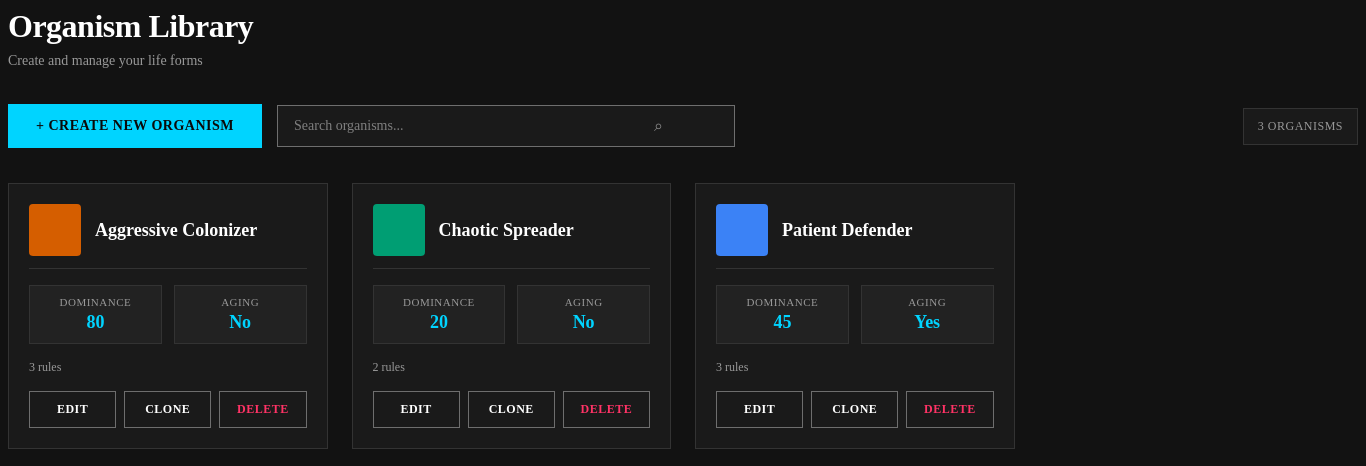
Test: OrganismLibrary › has no axe violations while filtered
Check: the number of list items is 3, box [8,183,328,449]; [352,183,671,449]; [695,183,1014,449]
Type "pat" into the field labelled "Search organisms" at {"x": 506, "y": 126}, box [277,105,735,147]
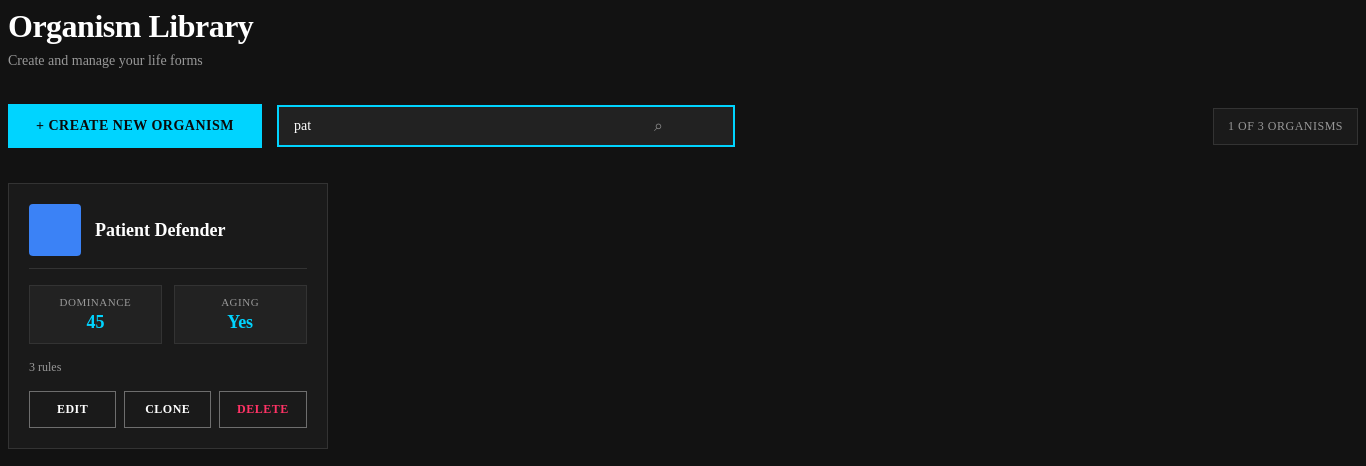
Check: the number of list items is 1, box [8,183,328,449]
